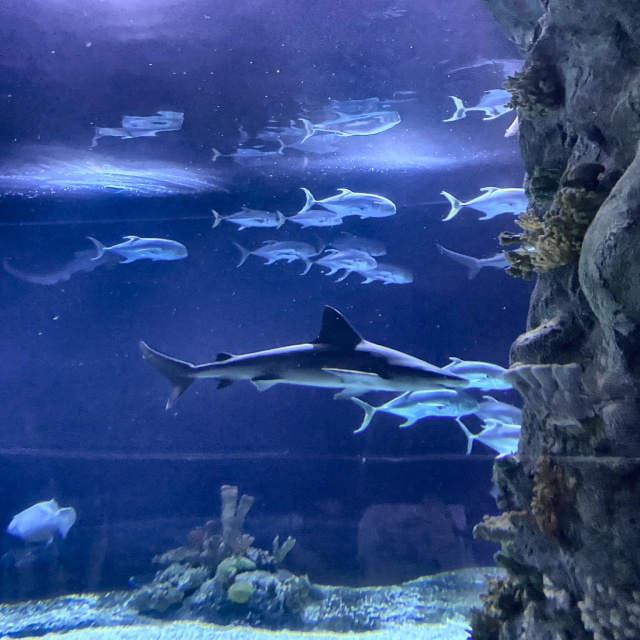fish: (349, 388, 486, 434), (78, 232, 193, 269), (294, 184, 400, 224), (439, 186, 541, 222), (224, 237, 319, 275), (453, 414, 528, 460), (9, 497, 78, 547), (432, 355, 519, 392), (300, 111, 401, 142), (299, 249, 381, 284), (203, 202, 291, 232), (456, 394, 522, 431), (448, 92, 522, 122), (355, 260, 419, 291)
shark: (140, 304, 468, 412), (437, 242, 564, 277)
